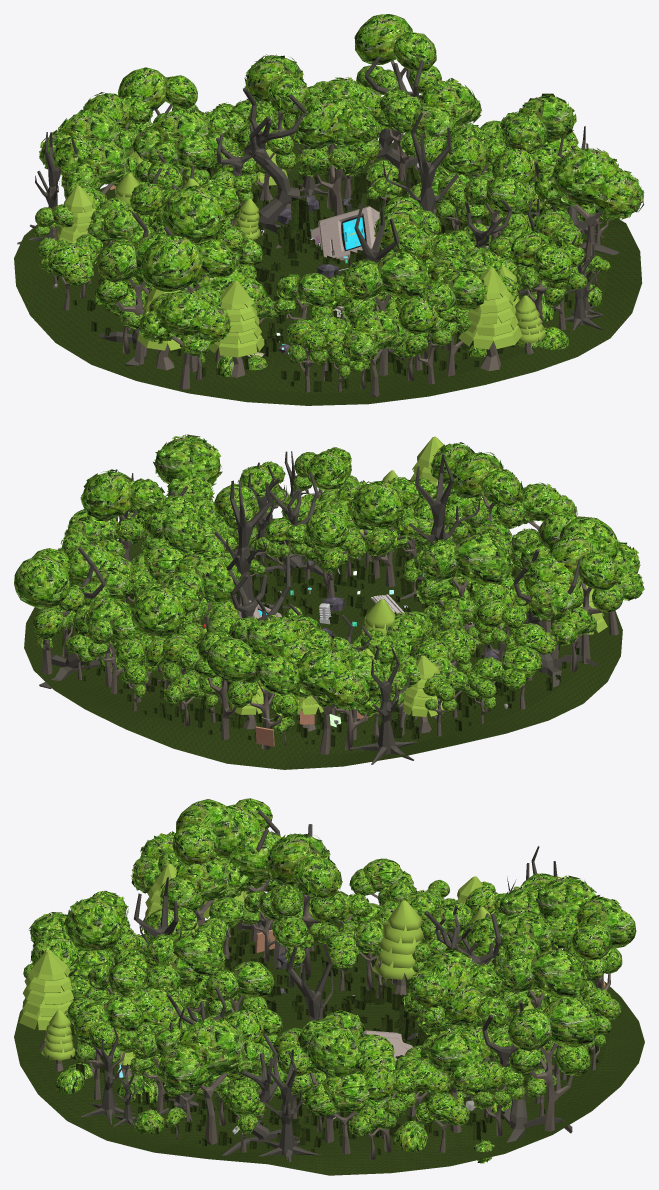
The model's file is forest_biome.glb.
3 views of the same model, one above another, from view 1: azimuth 30°, elevation 25°; view 2: azimuth 150°, elevation 25°; view 3: azimuth 270°, elevation 25° (orthographic). The views are drawn at different scales.
Visible parts, largest first — view 1: Ground_Arena, ForestExtra_064_green, ForestExtra_030_green, Tree_17_tree_rt_1_green, ForestExtra_156_green, ForestExtra_023_green, ForestExtra_005_green, Tree_22_tree_rt_3_green, ForestExtra_084_green, ForestExtra_003_green, ForestExtra_125_green, ForestExtra_043_green (+56 smaller); view 2: Ground_Arena, ForestExtra_023_green, ForestExtra_005_green, ForestExtra_003_green, Tree_17_tree_rt_1_green, ForestExtra_084_green, ForestExtra_130_green, ForestExtra_064_green, ForestExtra_011_green, ForestExtra_146_green, ForestExtra_035_green, ForestExtra_002_green (+63 smaller); view 3: Ground_Arena, ForestExtra_023_green, ForestExtra_064_green, Tree_17_tree_rt_1_green, ForestExtra_084_green, ForestExtra_005_green, ForestExtra_035_green, ForestExtra_043_green, ForestExtra_156_green, ForestExtra_003_green, ForestExtra_125_green, ForestExtra_130_green (+67 smaller).
Part boxes in pixels (x1=…): Ground_Arena: x1=14, y1=140, x2=642, y2=405; ForestExtra_064_green: x1=532, y1=147, x2=644, y2=219; ForestExtra_030_green: x1=292, y1=96, x2=381, y2=176; Tree_17_tree_rt_1_green: x1=354, y1=14, x2=441, y2=94; ForestExtra_156_green: x1=140, y1=235, x2=236, y2=311; ForestExtra_023_green: x1=161, y1=179, x2=248, y2=253; ForestExtra_005_green: x1=342, y1=250, x2=431, y2=322; Tree_22_tree_rt_3_green: x1=137, y1=289, x2=231, y2=343; ForestExtra_084_green: x1=244, y1=54, x2=310, y2=136; ForestExtra_003_green: x1=502, y1=93, x2=576, y2=152; ForestExtra_125_green: x1=458, y1=267, x2=522, y2=349; ForestExtra_043_green: x1=410, y1=78, x2=481, y2=141; Ground_Arena: x1=24, y1=518, x2=622, y2=769; ForestExtra_023_green: x1=416, y1=532, x2=513, y2=608; ForestExtra_005_green: x1=451, y1=452, x2=527, y2=527; ForestExtra_003_green: x1=80, y1=469, x2=165, y2=543; Tree_17_tree_rt_1_green: x1=14, y1=548, x2=85, y2=640; ForestExtra_084_green: x1=129, y1=581, x2=205, y2=669; ForestExtra_130_green: x1=352, y1=477, x2=423, y2=557; ForestExtra_064_green: x1=153, y1=434, x2=222, y2=501; ForestExtra_011_green: x1=292, y1=647, x2=370, y2=710; ForestExtra_146_green: x1=549, y1=532, x2=623, y2=612; ForestExtra_035_green: x1=194, y1=631, x2=255, y2=708; ForestExtra_002_green: x1=522, y1=549, x2=581, y2=621; Ground_Arena: x1=14, y1=915, x2=644, y2=1175; ForestExtra_023_green: x1=265, y1=833, x2=347, y2=925; ForestExtra_064_green: x1=157, y1=1017, x2=265, y2=1091; Tree_17_tree_rt_1_green: x1=508, y1=997, x2=598, y2=1075; ForestExtra_084_green: x1=497, y1=947, x2=587, y2=1013; ForestExtra_005_green: x1=63, y1=890, x2=140, y2=965; ForestExtra_035_green: x1=568, y1=906, x2=636, y2=981; ForestExtra_043_green: x1=419, y1=1027, x2=492, y2=1094; ForestExtra_156_green: x1=158, y1=799, x2=229, y2=872; ForestExtra_003_green: x1=296, y1=1019, x2=365, y2=1077; ForestExtra_125_green: x1=19, y1=950, x2=73, y2=1030; ForestExtra_130_green: x1=142, y1=930, x2=226, y2=1003.
Size of the model in its own units: 40 by 13.24 by 40.
Materials: 60 (47 with a texture image).
